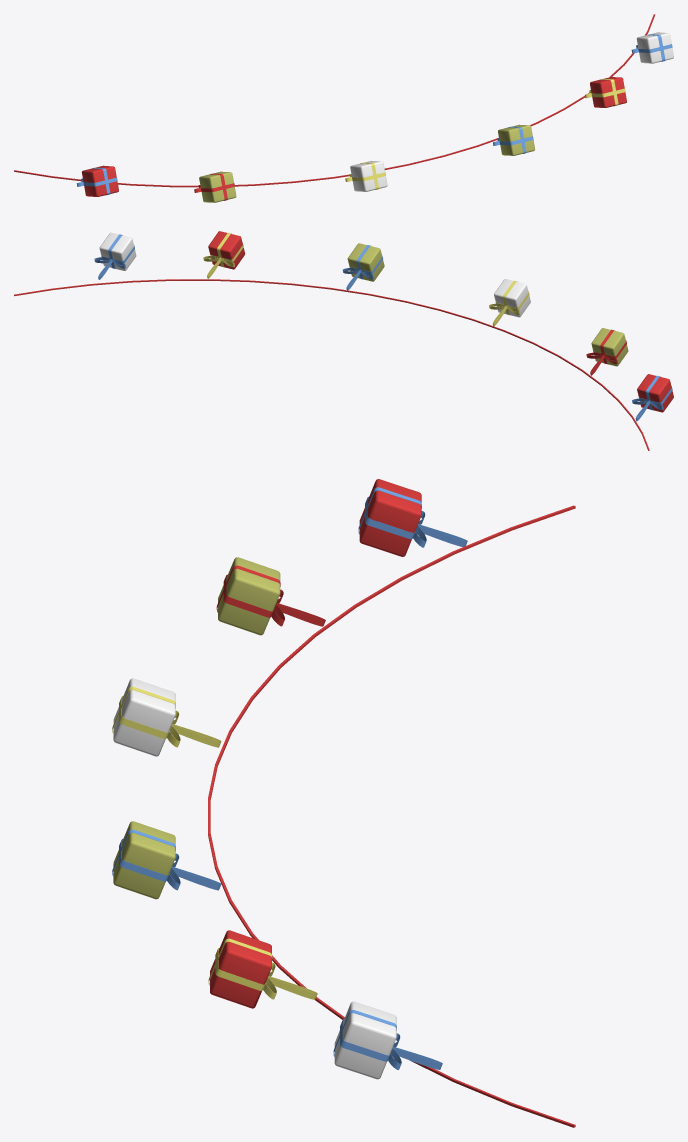
The picture shows the model from 3 angles, top to bottom: view 1: azimuth 30°, elevation 25°; view 2: azimuth 150°, elevation 25°; view 3: azimuth 270°, elevation 25°; orthographic projection. The views are drawn at different scales.
Parts seen in each view (by area): view 1: fe67bb9b9c8420dbab7f77a391a06fa70eecc13d > > root > (×5); view 2: fe67bb9b9c8420dbab7f77a391a06fa70eecc13d > > root > (×5); view 3: fe67bb9b9c8420dbab7f77a391a06fa70eecc13d > > root > (×5).
Boxes of the visible parts, left/top/right/bottom form: fe67bb9b9c8420dbab7f77a391a06fa70eecc13d > > root > (×5): left=14, top=14, right=673, bottom=202; fe67bb9b9c8420dbab7f77a391a06fa70eecc13d > > root > (×5): left=14, top=231, right=673, bottom=450; fe67bb9b9c8420dbab7f77a391a06fa70eecc13d > > root > (×5): left=112, top=479, right=575, bottom=1127.
Bounding box in the file's own units: 2 × 0.1011 × 0.6322.
